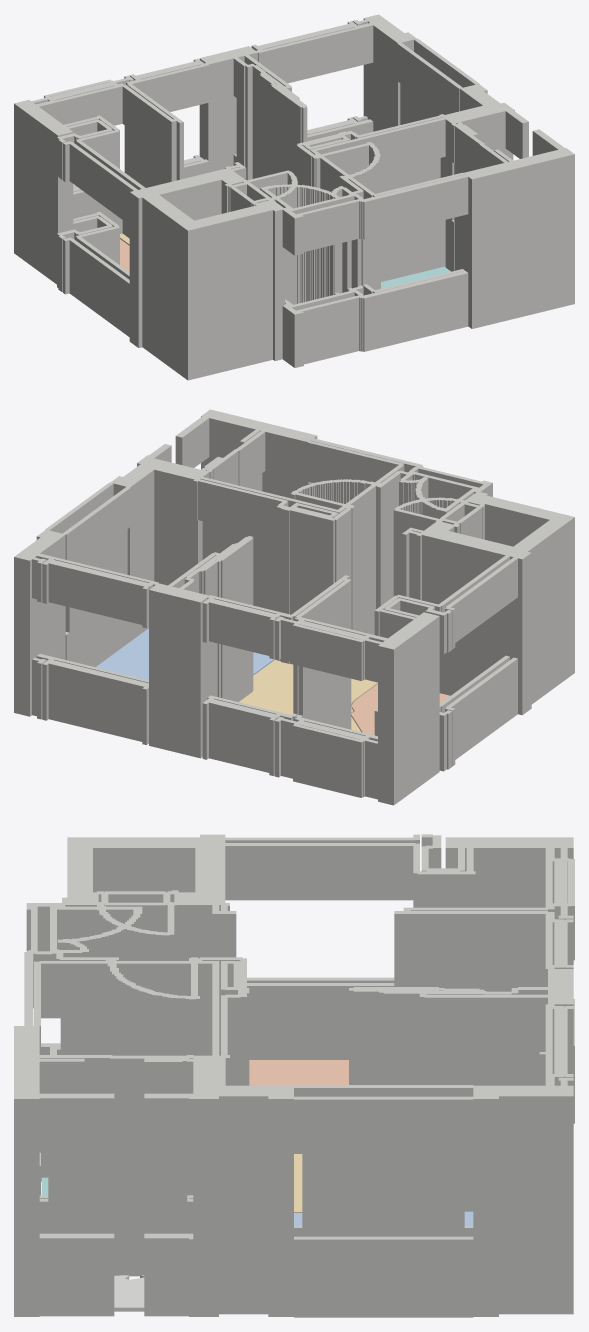
The picture shows the model from 3 angles, top to bottom: view 1: azimuth 30°, elevation 25°; view 2: azimuth 150°, elevation 25°; view 3: azimuth 270°, elevation 25°; orthographic projection. The views are drawn at different scales.
Parts seen in each view (by area): view 1: walls, room:bath:1; view 2: walls, room:living:0, room:bedroom:4, room:kitchen:5; view 3: walls, room:kitchen:5, room:ledge:3.
Boxes of the visible parts, <box> form: walls: <box>14,14,574,380</box>; room:bath:1: <box>381,266,450,288</box>; walls: <box>14,409,574,805</box>; room:living:0: <box>239,659,377,731</box>; room:bedroom:4: <box>96,628,274,680</box>; room:kitchen:5: <box>351,684,450,735</box>; walls: <box>14,834,574,1317</box>; room:kitchen:5: <box>249,1060,348,1085</box>; room:ledge:3: <box>114,1275,144,1311</box>.
Size of the model in its own units: 7.3 by 2.8 by 6.53.
